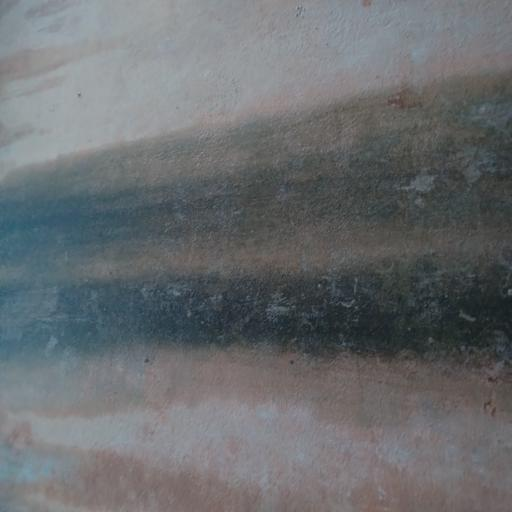algae: (3, 120, 512, 410)
